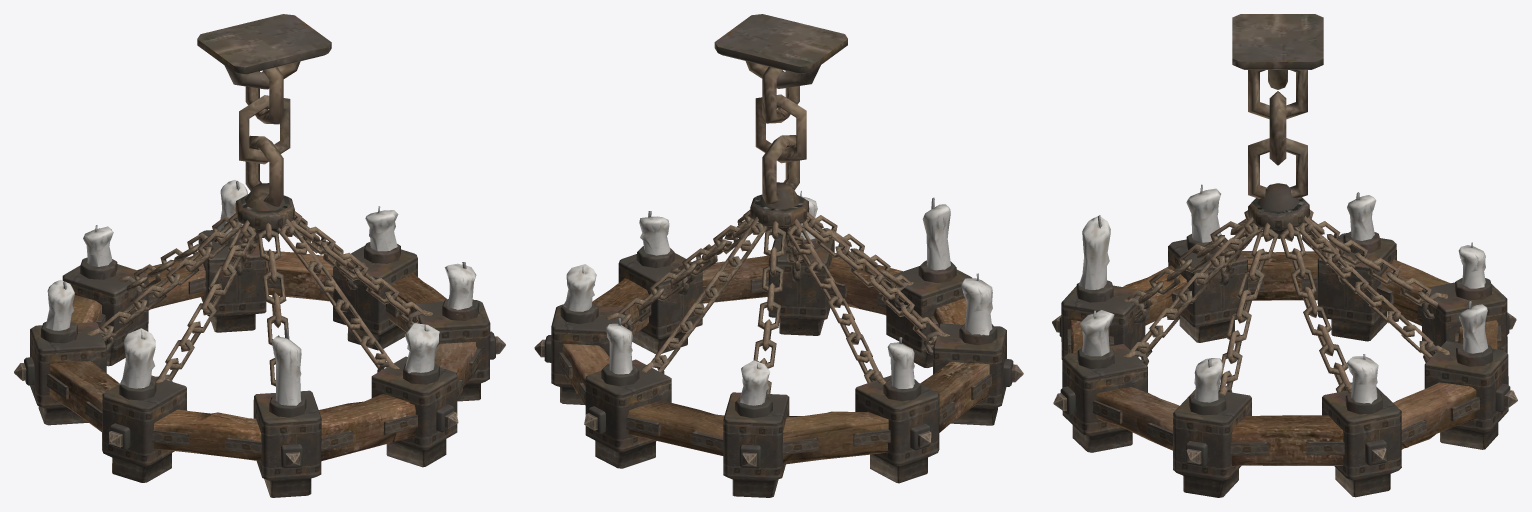
3 views of the same model, side by side, from view 1: azimuth 30°, elevation 25°; view 2: azimuth 150°, elevation 25°; view 3: azimuth 270°, elevation 25° (orthographic).
Visible parts, largest first — view 1: SM_Ceiling_Chandelier_01_LOD0; view 2: SM_Ceiling_Chandelier_01_LOD0; view 3: SM_Ceiling_Chandelier_01_LOD0.
Boxes of the visible parts, box(x1,y1,x2,y2) form: SM_Ceiling_Chandelier_01_LOD0: box(14, 14, 505, 497); SM_Ceiling_Chandelier_01_LOD0: box(534, 14, 1023, 497); SM_Ceiling_Chandelier_01_LOD0: box(1052, 14, 1517, 497).
Bounding box in the file's own units: 1.22 × 1.07 × 1.22.
Materials: 4 (4 with a texture image).
